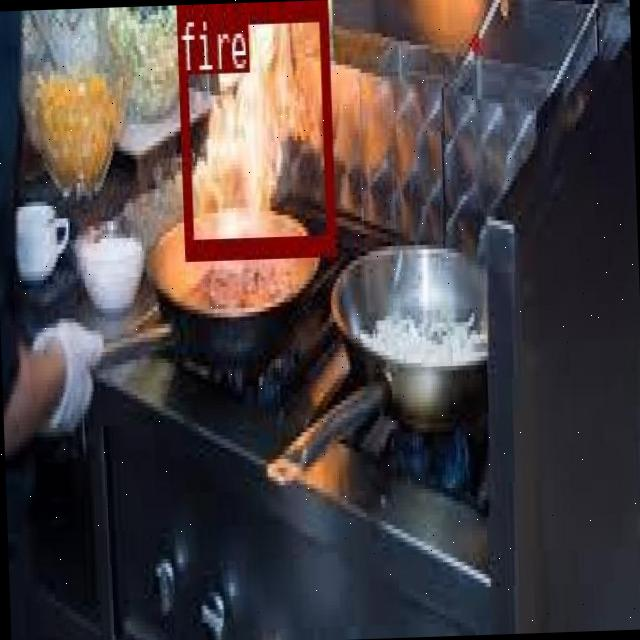fire: (174, 0, 335, 257)
